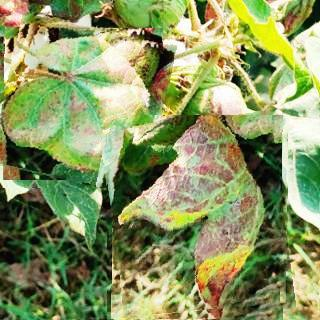leaf spot: (107, 115, 289, 320), (0, 20, 170, 188)
